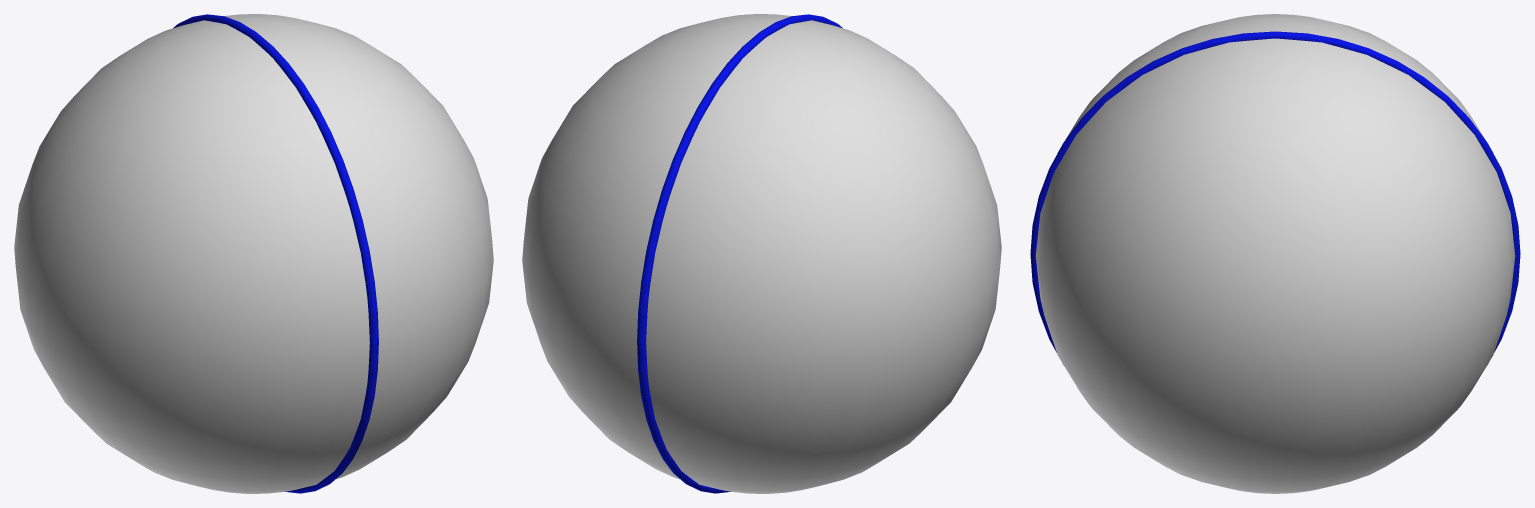
File: atom2.fbx
3 renders of one model, left to right at view 1: azimuth 30°, elevation 25°; view 2: azimuth 150°, elevation 25°; view 3: azimuth 270°, elevation 25°, orthographic.
Visible parts, largest first — view 1: Sphere.001; view 2: Sphere.001; view 3: Sphere.001.
Part boxes in pixels (x1,y1,x2,y2): Sphere.001: [14, 14, 493, 493]; Sphere.001: [522, 14, 1001, 493]; Sphere.001: [1030, 14, 1520, 493].
Size of the model in its own units: 250 by 255 by 255.
